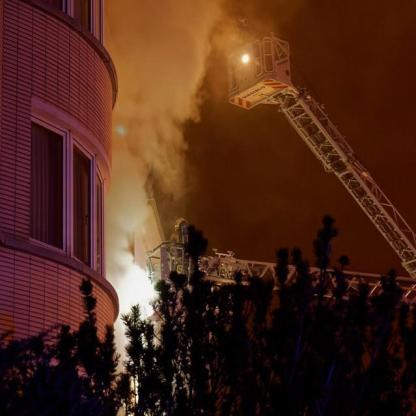smoke: (95, 2, 213, 339)
